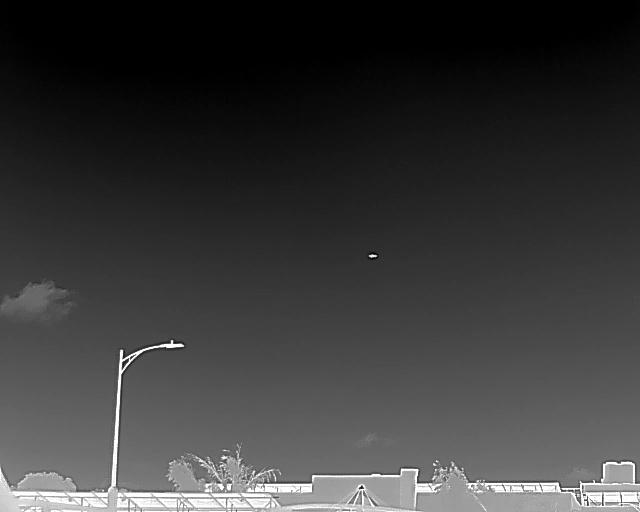fpv-drone: (368, 252, 377, 258)
